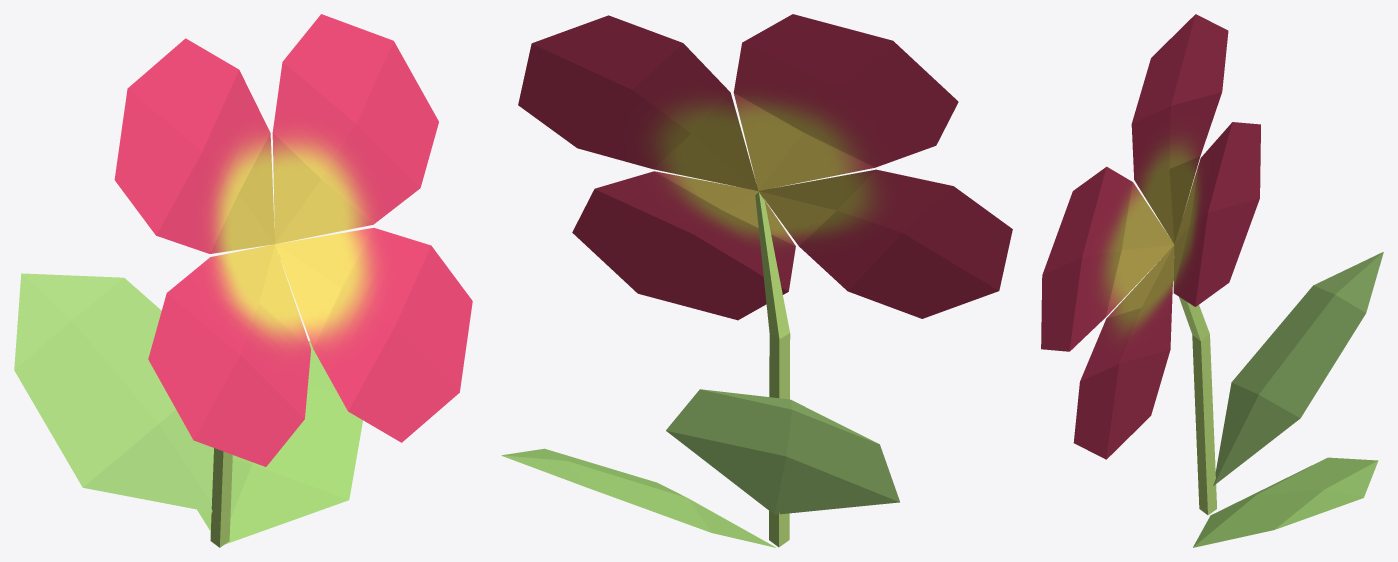
File: Flower_c_TwoS_12.fbx
3 renders of one model, left to right at view 1: azimuth 30°, elevation 25°; view 2: azimuth 150°, elevation 25°; view 3: azimuth 270°, elevation 25°, orthographic. The views are drawn at different scales.
Parts seen in each view (by area): view 1: Flower_c_TwoS_12; view 2: Flower_c_TwoS_12; view 3: Flower_c_TwoS_12.
Part boxes in pixels (x1=…): Flower_c_TwoS_12: x1=14, y1=14, x2=472, y2=547; Flower_c_TwoS_12: x1=501, y1=14, x2=1012, y2=547; Flower_c_TwoS_12: x1=1041, y1=14, x2=1383, y2=547.
Bounding box in the file's own units: 27.82 × 35.49 × 23.27.
